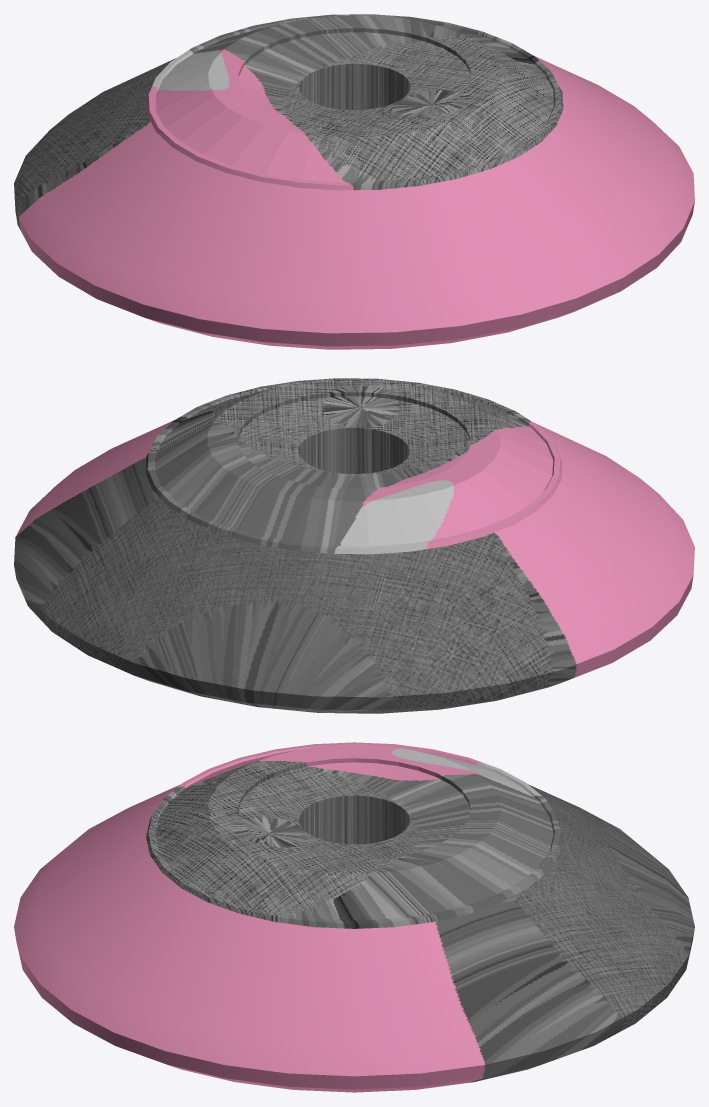
Rendered from base ufo.FBX.
3 renders of one model, top to bottom at view 1: azimuth 30°, elevation 25°; view 2: azimuth 150°, elevation 25°; view 3: azimuth 270°, elevation 25°, orthographic.
Visible parts, largest first — view 1: Sphere003; view 2: Sphere003; view 3: Sphere003.
Boxes of the visible parts, x1,y1,x2,y2 form: Sphere003: (14, 14, 694, 349); Sphere003: (14, 378, 694, 713); Sphere003: (14, 742, 694, 1092).
Bounding box in the file's own units: 21.53 × 7.78 × 20.94.
